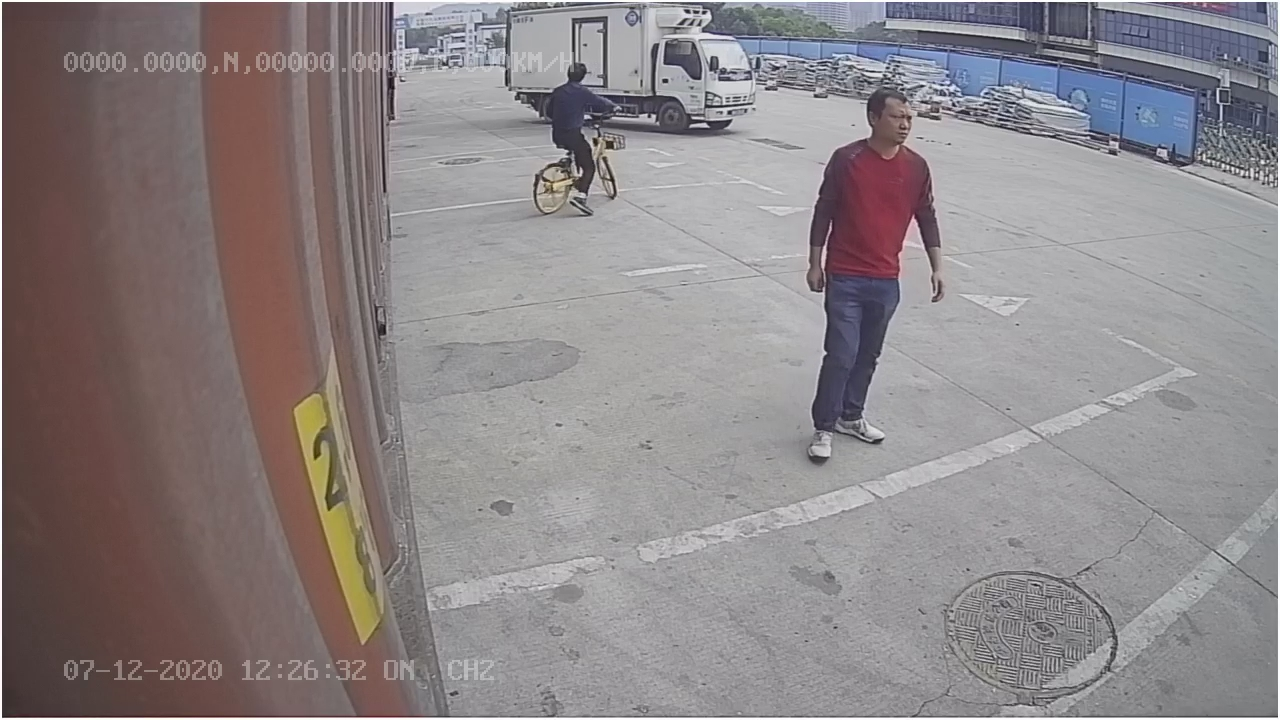person: (801, 84, 949, 460)
